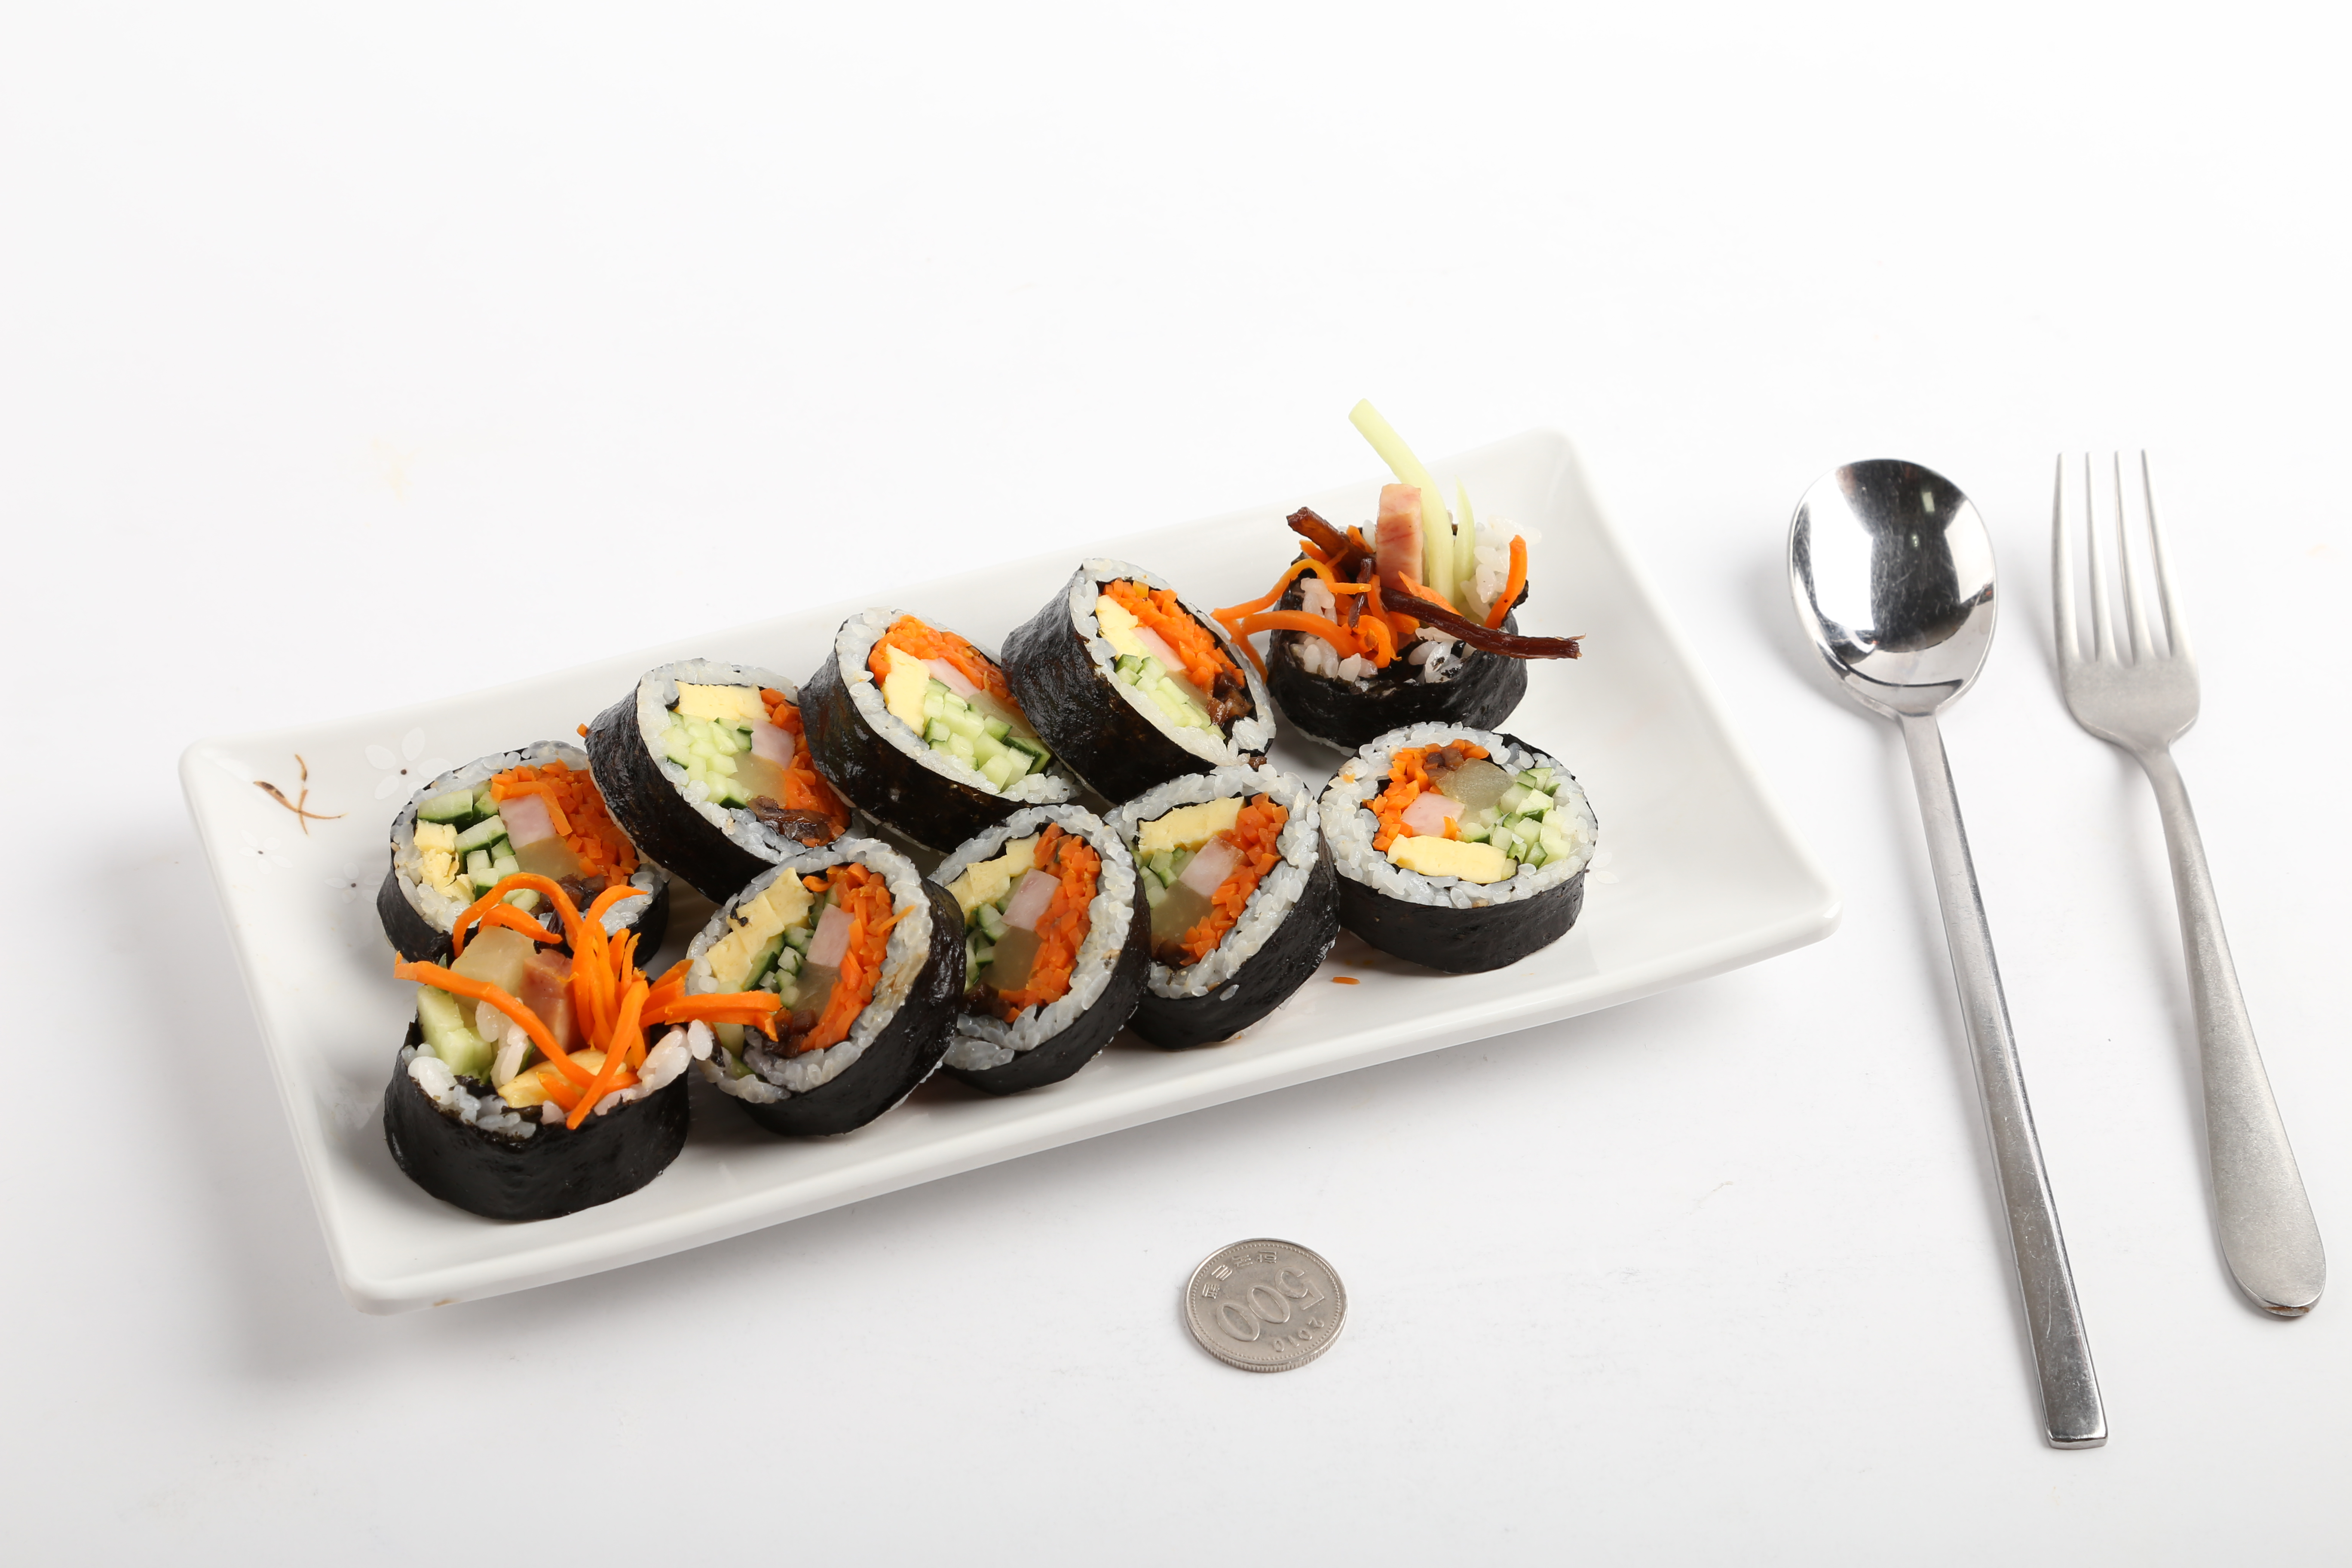dish: (175, 434, 1841, 1307)
ref_coin: (1178, 1228, 1347, 1381)
ref_fork: (2042, 448, 2201, 794)
ref_spoon: (1785, 448, 2004, 800)
김밥: (371, 485, 1598, 1225)
